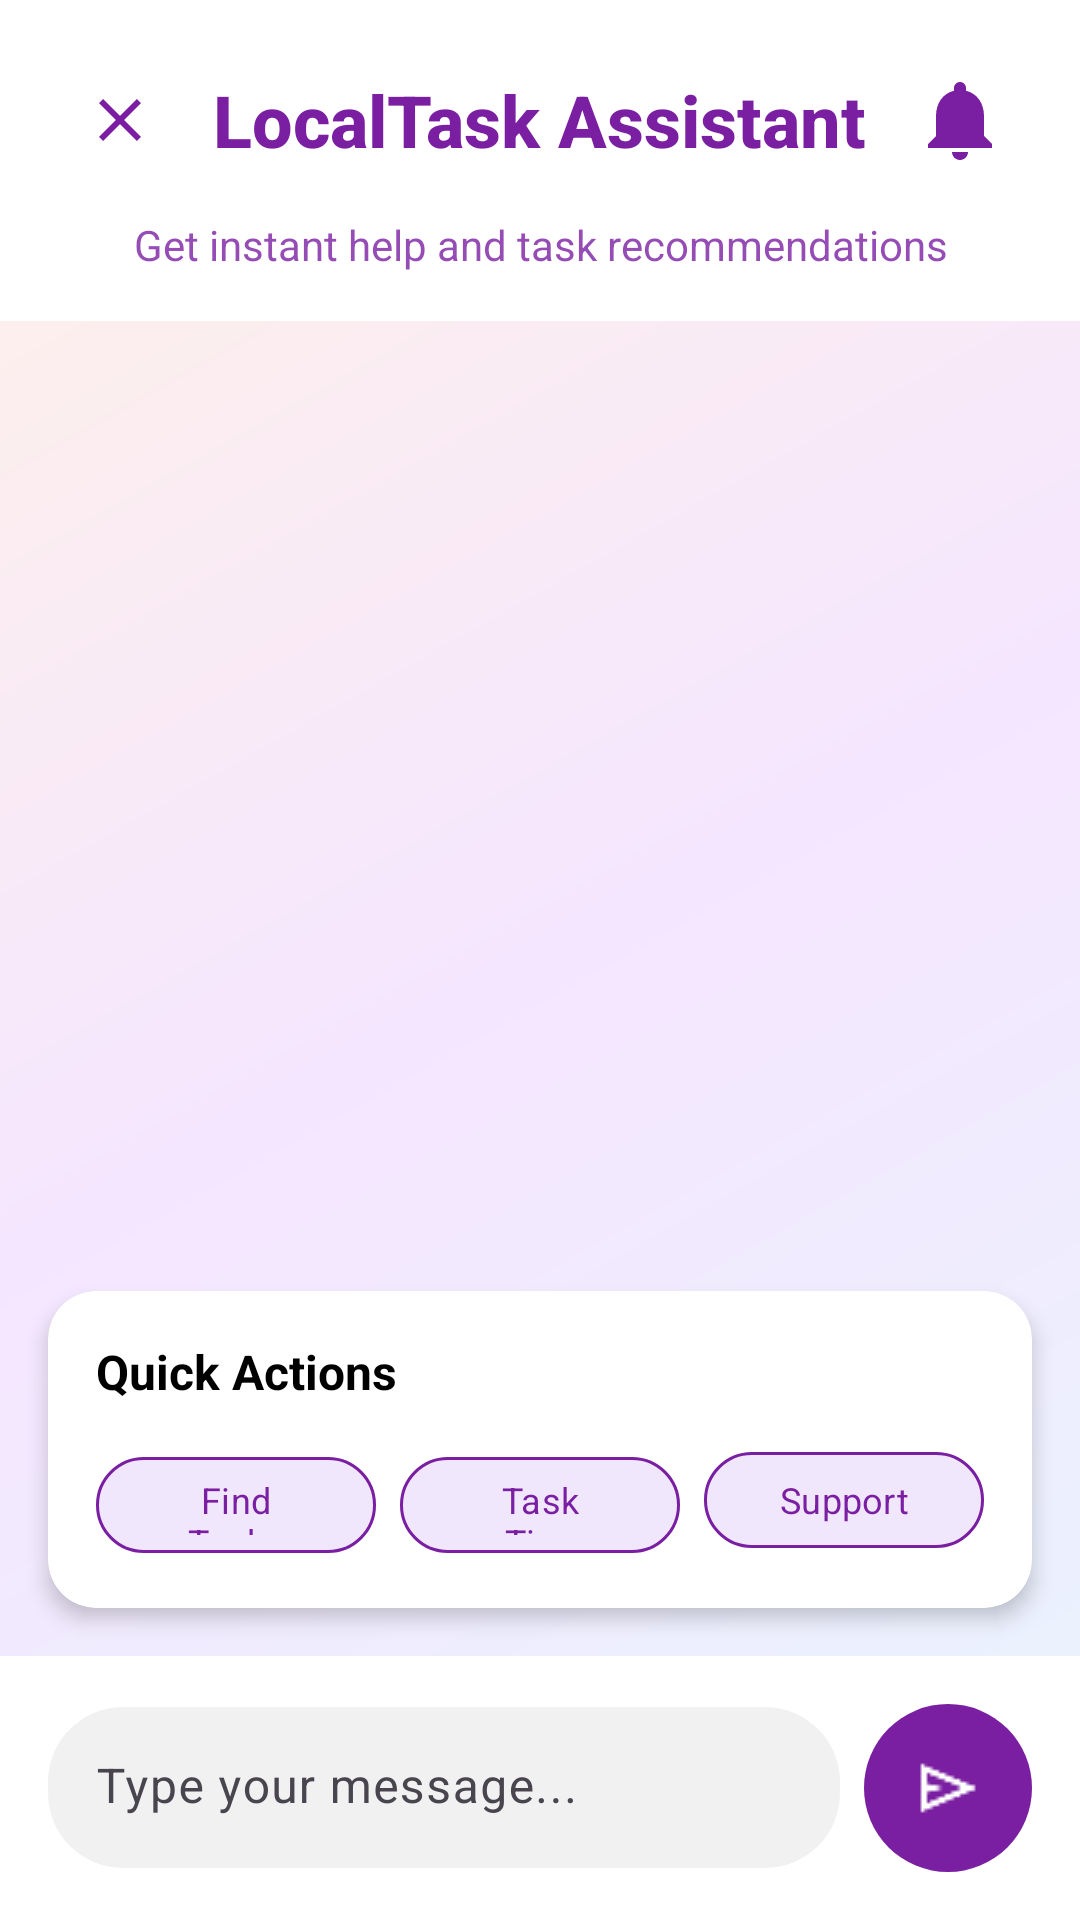

Screen size 1080×1920. Icon name, then its center in pixels as (x=x, y=y):
notification: (x=960, y=121)
send: (x=948, y=1788)
